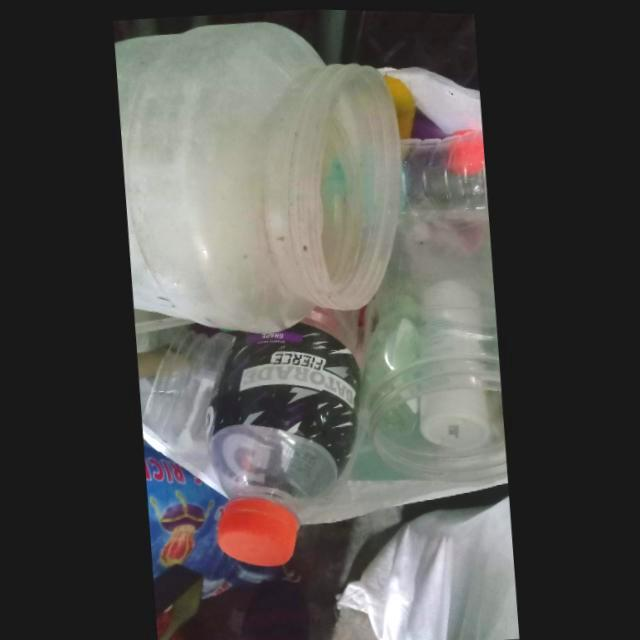plastic_bottle: (206, 304, 361, 566), (400, 126, 489, 218)
plastic_container: (113, 21, 402, 333)
